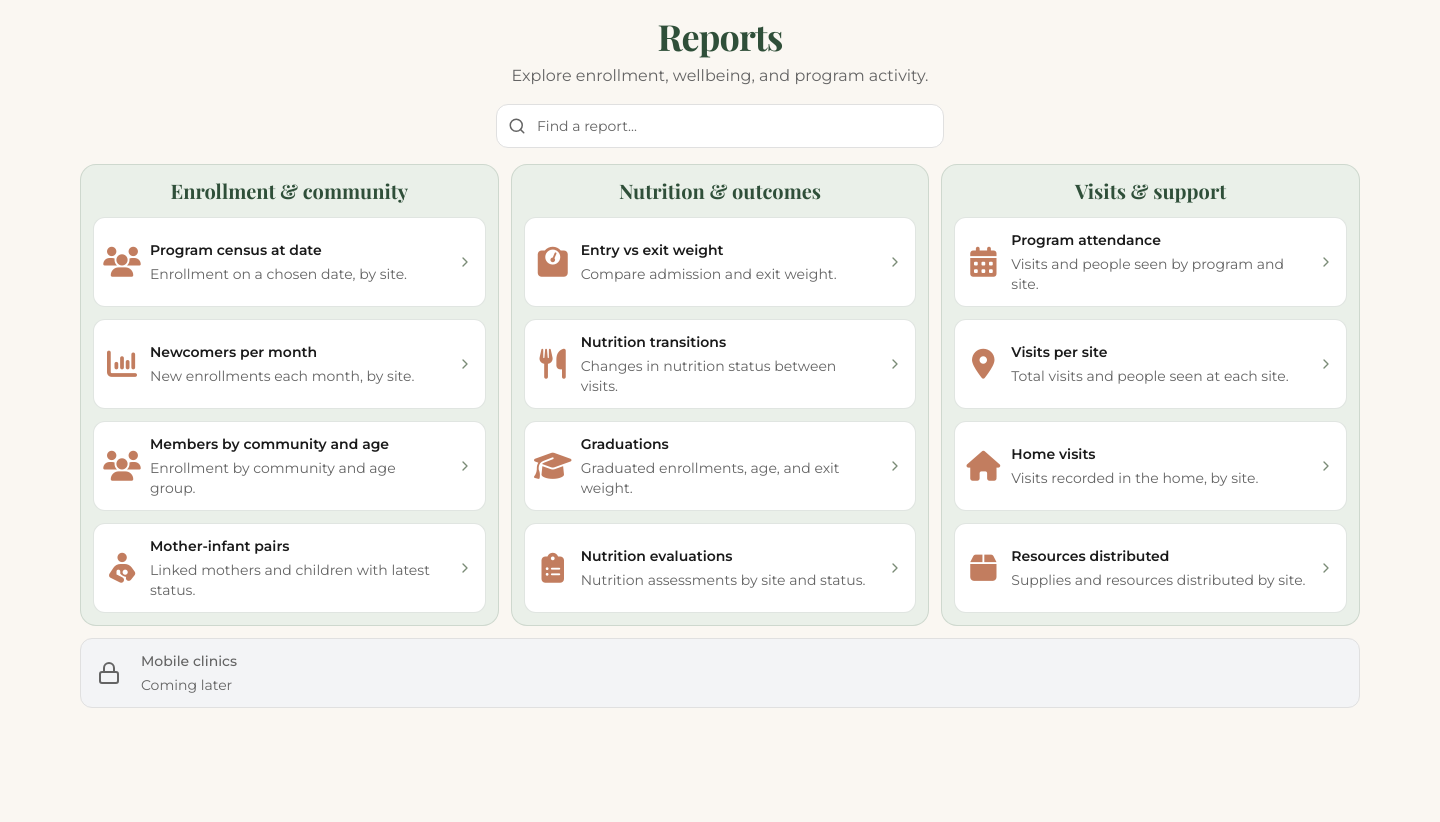
Test: ReportsPage › includes unavailable reports in search results
Type "mobile" into the search field labelled "Find a report".
click(720, 126); type("mobile")  # box x1=496 y1=104 x2=944 y2=148
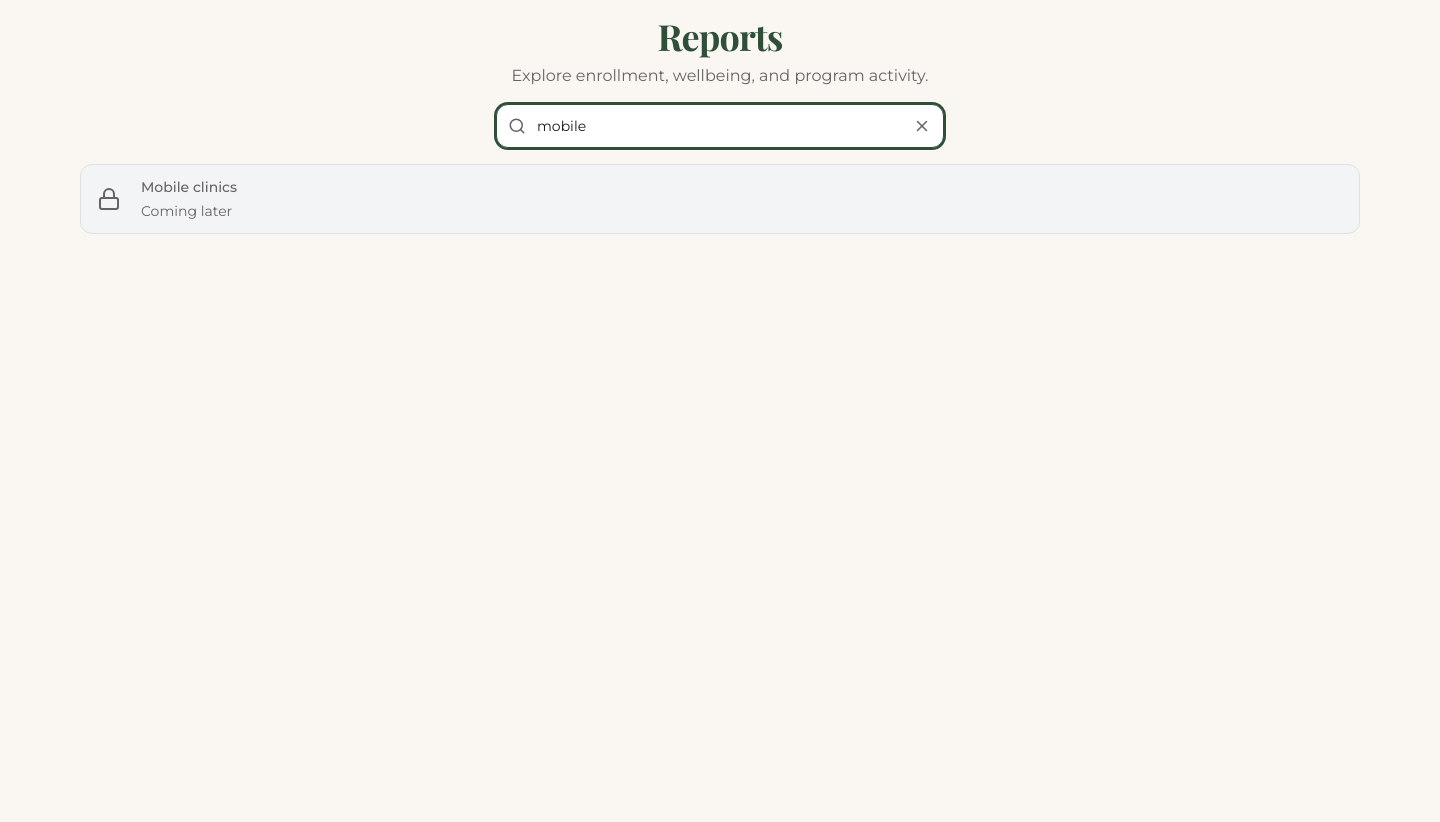
Expected: the heading "Mobile clinics" is shown, x1=141 y1=177 x2=237 y2=197
Expected: no links are shown
